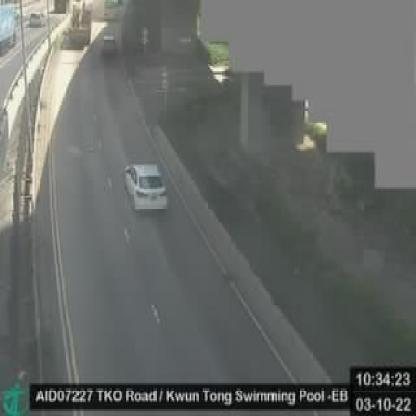Car: (124, 159, 167, 208)
